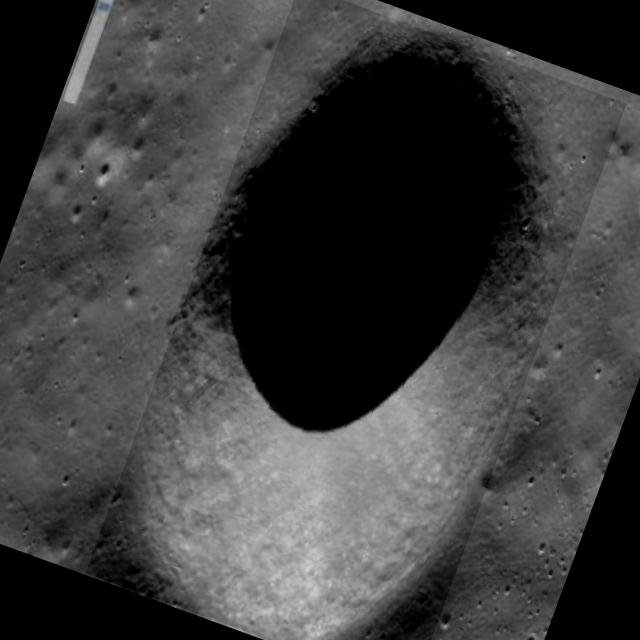crater: (85, 0, 626, 640)
